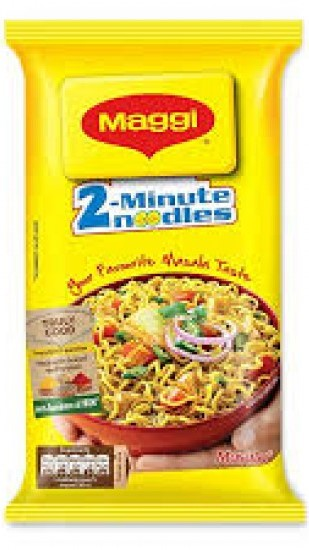maggi: (2, 18, 308, 531)
